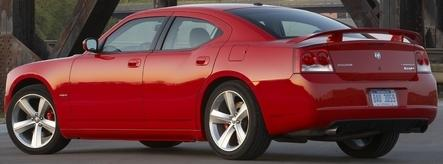back_view: (294, 33, 431, 129)
backlight: (295, 40, 350, 87)
side_glass: (94, 12, 254, 69)
